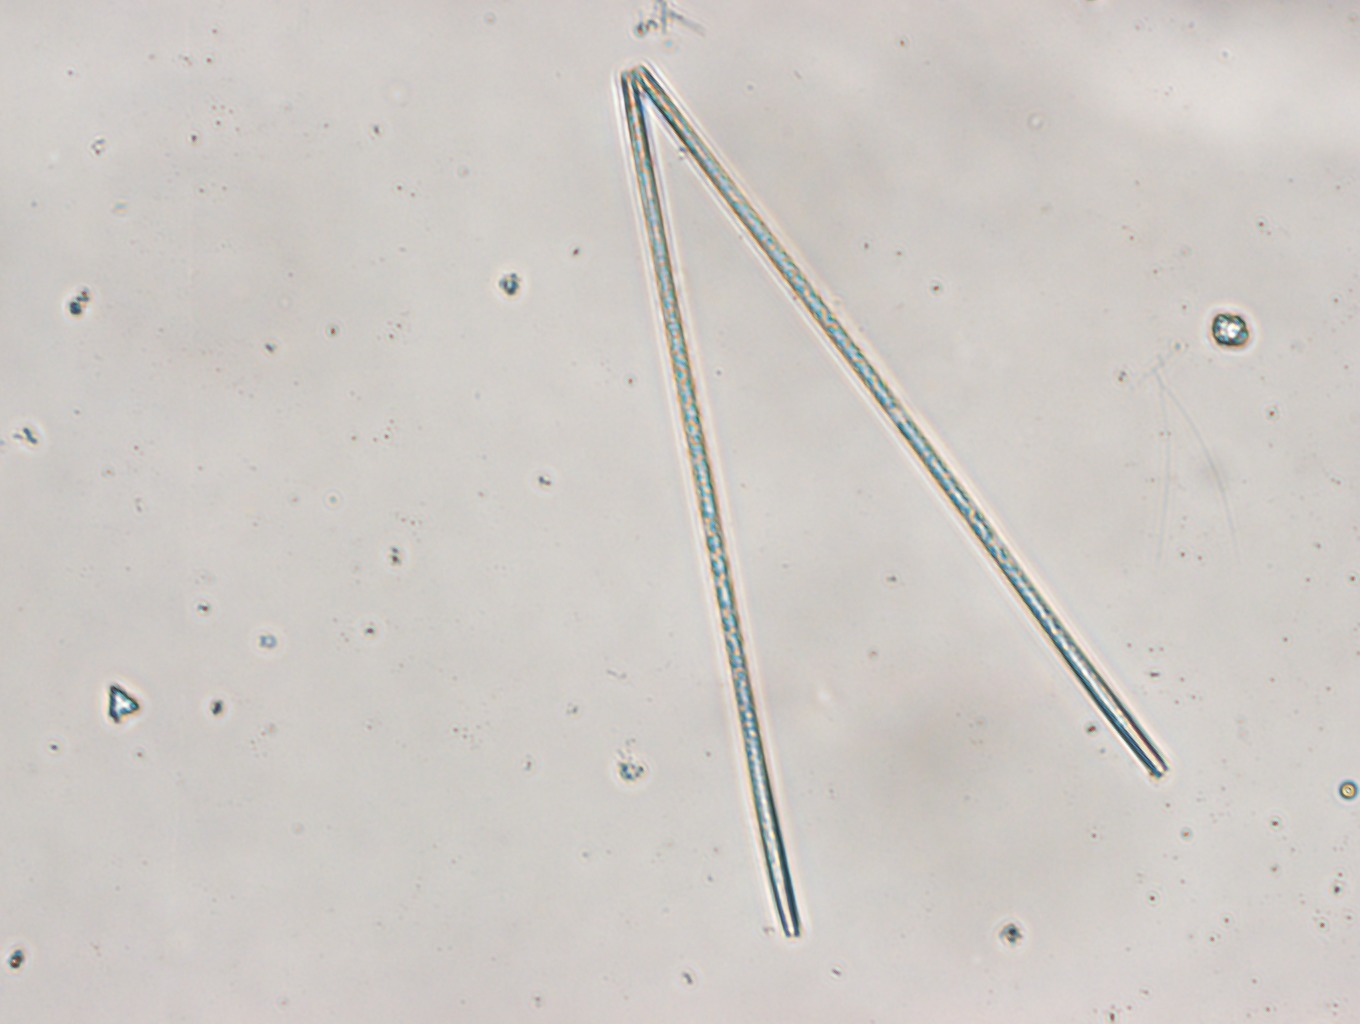thalassionema frauenfeldii: (617, 65, 1166, 940)
